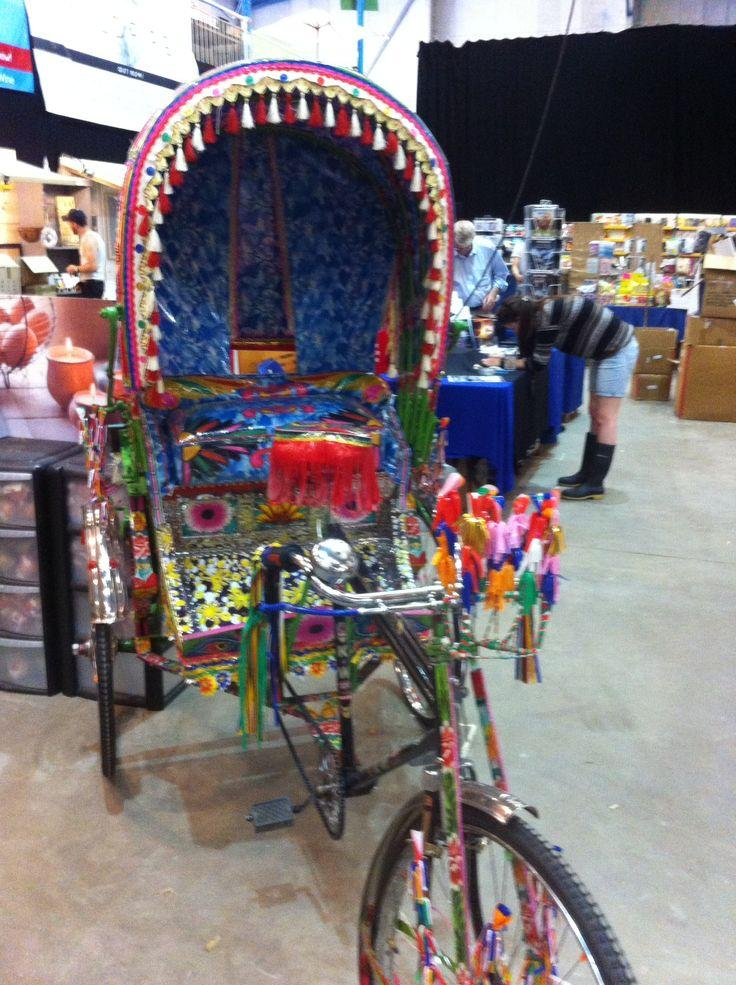Rickshaw: (84, 61, 632, 984)
